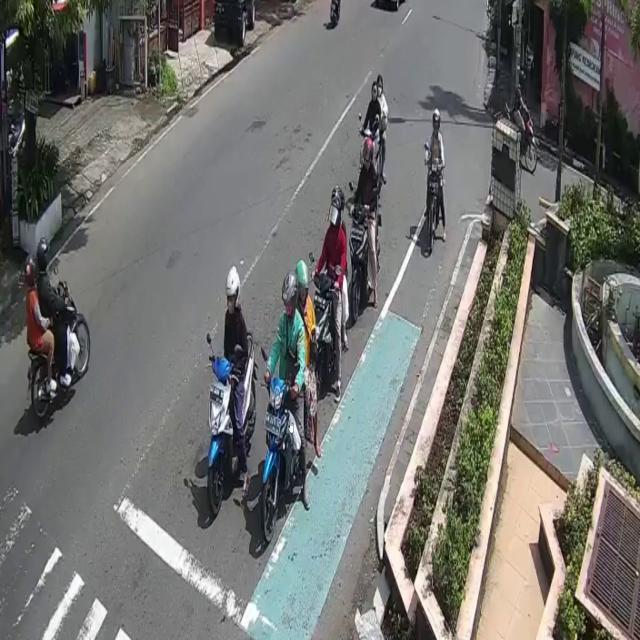bus: (259, 344, 317, 547), (205, 331, 259, 519), (27, 280, 92, 424), (308, 264, 347, 418), (348, 194, 382, 320), (498, 99, 539, 176), (357, 126, 385, 204), (424, 158, 446, 254)
